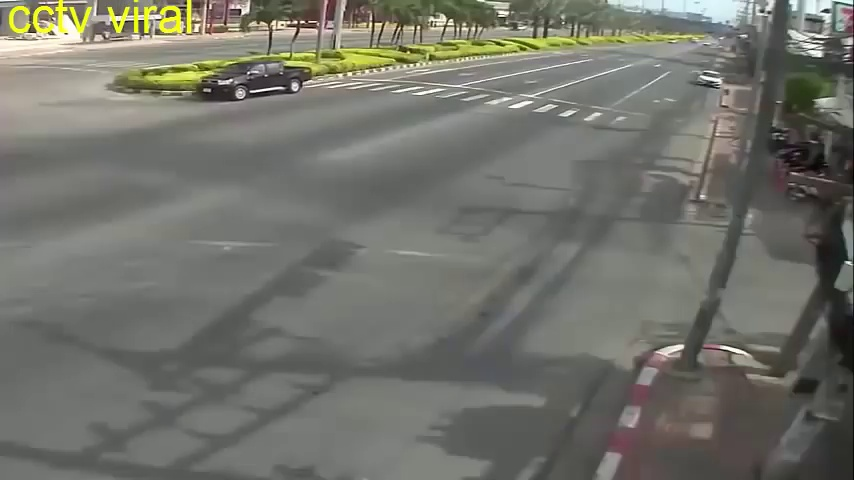car: (203, 58, 309, 101), (695, 68, 722, 91)
